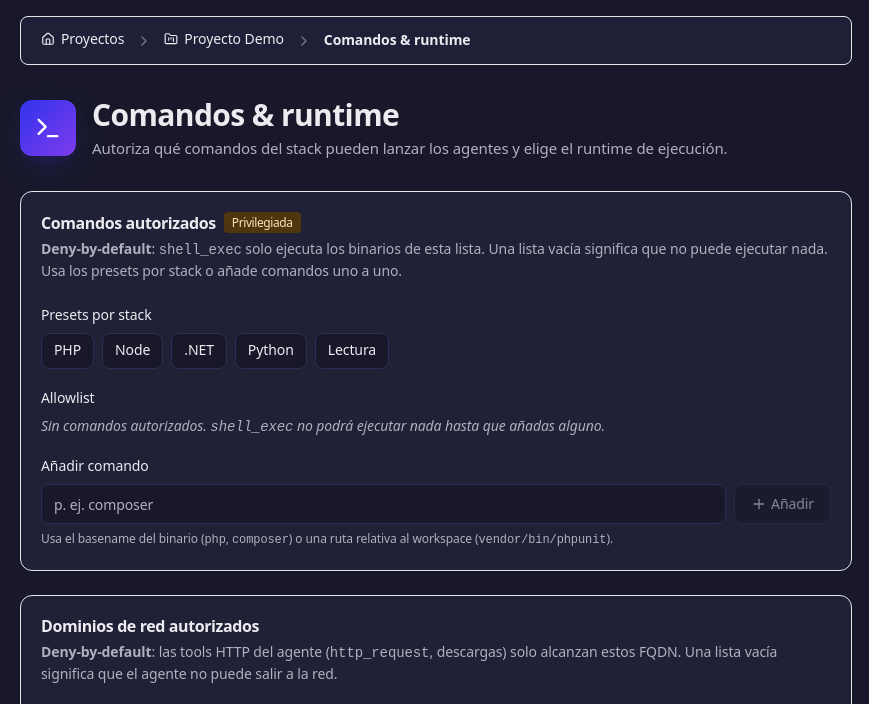
Scenario: Comandos & runtime — presets por stack (06.16) › el preset PHP rellena los chips php/composer/vendor/bin/phpunit/pest
The image size is (869, 704).
Expected: the element with test id "commands-presets" is shown, [41,333,389,369]
Expected: the element with test id "commands-empty" is shown, [41,416,605,435]
Click the button with test id "commands-preset-php": coordinates (68, 351) [41,333,94,369]
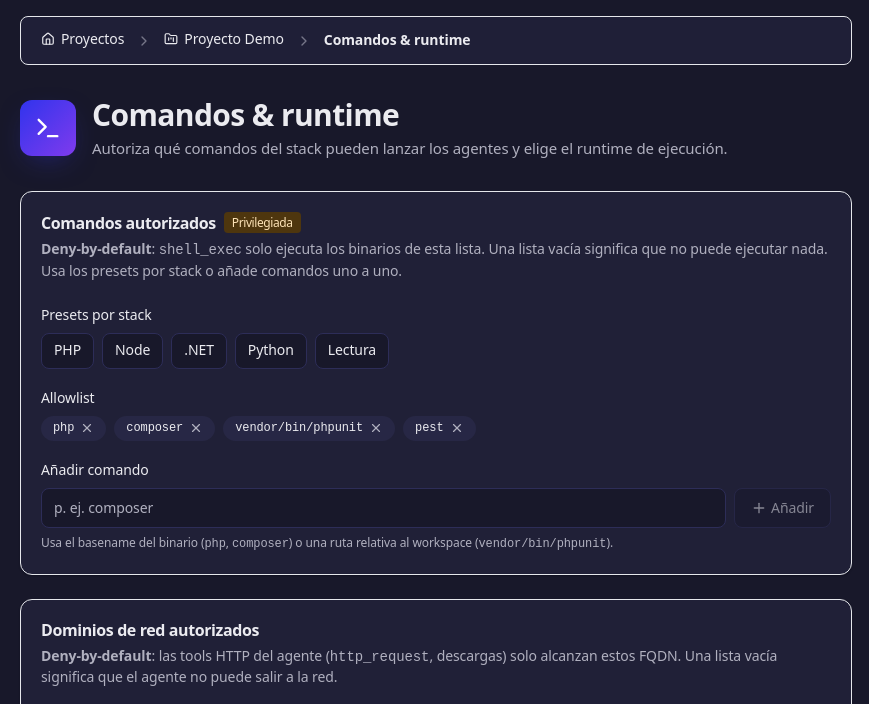
Result: the list with test id "commands-chips" is shown at [41,416,476,441]
Result: the element with test id "commands-empty" is gone
